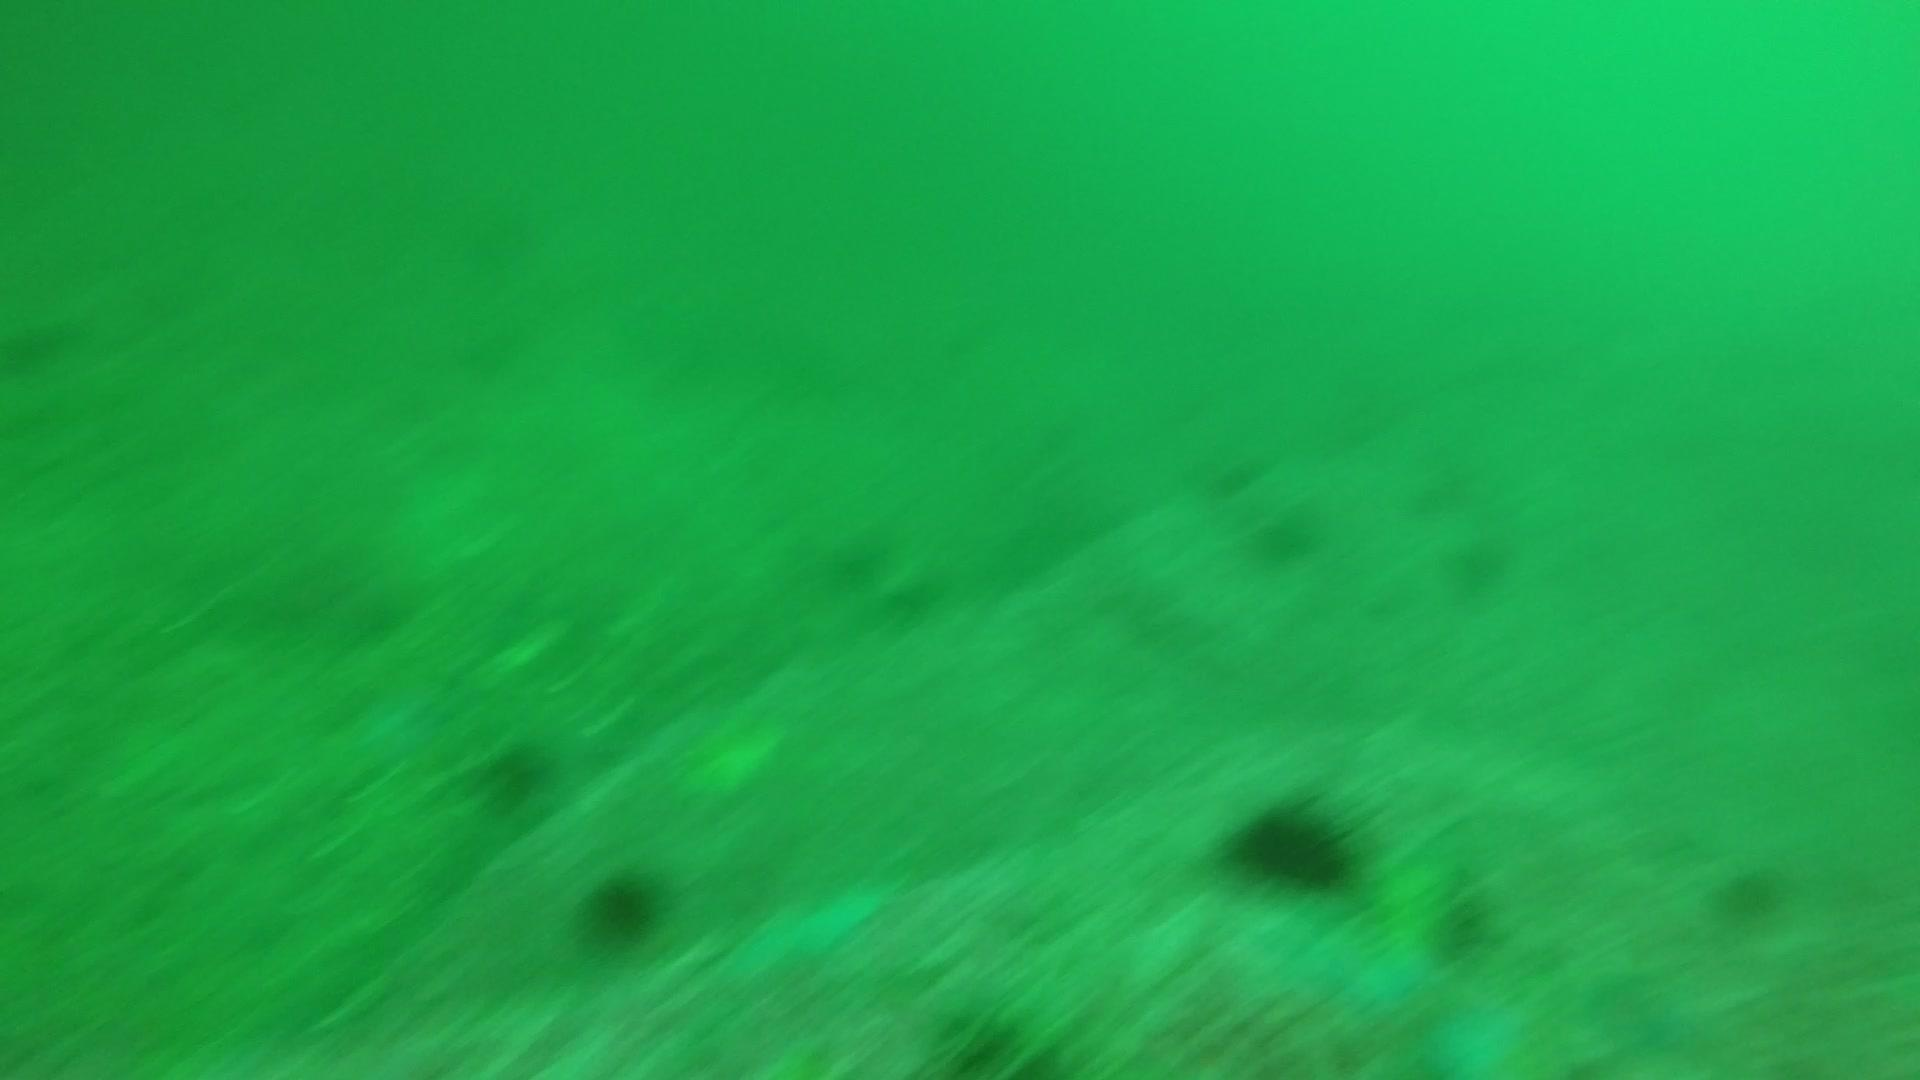echinus: (1221, 791, 1364, 895), (576, 862, 670, 949), (473, 733, 560, 814), (1708, 857, 1791, 927), (1244, 500, 1324, 570), (1441, 526, 1518, 597)
starfish: (723, 877, 887, 985)
